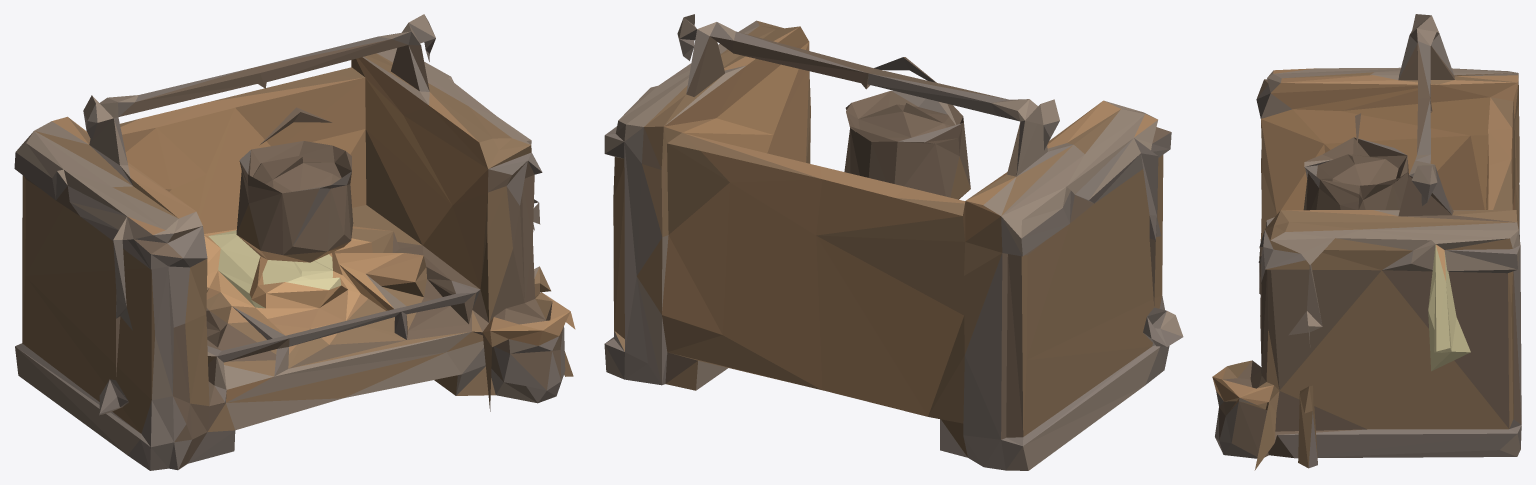
File: galley.glb
The picture shows the model from 3 angles, left to right: view 1: azimuth 30°, elevation 25°; view 2: azimuth 150°, elevation 25°; view 3: azimuth 270°, elevation 25°; orthographic projection. The views are drawn at different scales.
Visible parts, largest first — view 1: Hull; view 2: Hull; view 3: Hull.
Boxes of the visible parts, box(x1,y1,x2,y2) form: Hull: box(14, 14, 575, 470); Hull: box(604, 14, 1183, 470); Hull: box(1212, 14, 1521, 470).
Bounding box in the file's own units: 1.24 × 0.8 × 0.7955.
